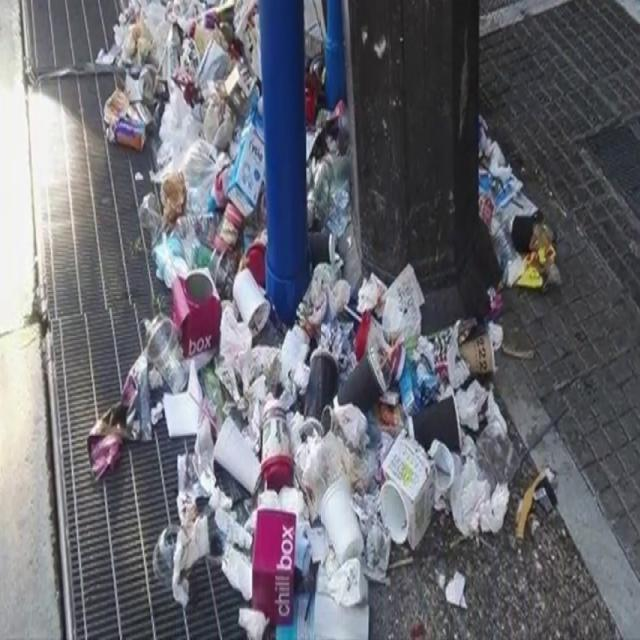garbage: (139, 269, 520, 612), (122, 0, 341, 256), (476, 125, 548, 299)
